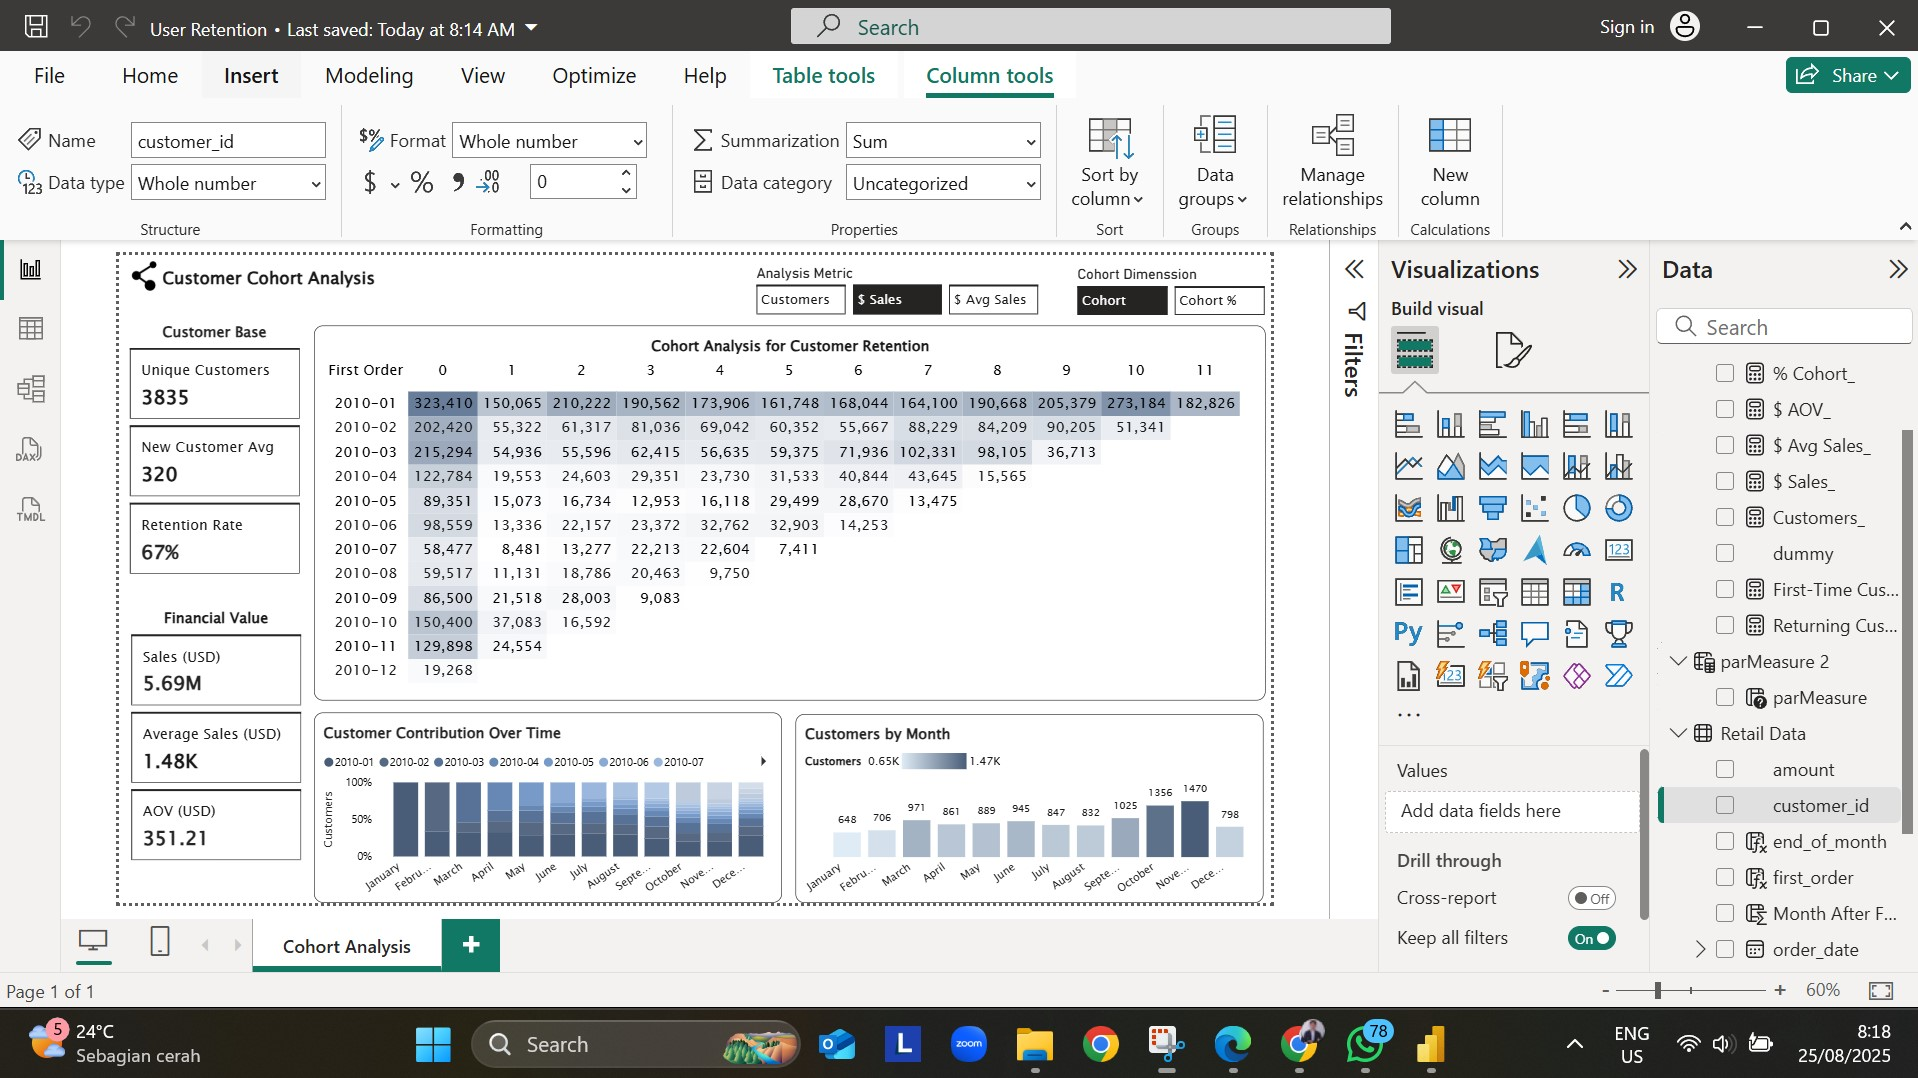

This screenshot's page, from the dashboard's own definition file:
{"tool":"powerbi","page":{"name":"Cohort Analysis","canvas":[1280,720],"ordinal":0},"visuals":[{"type":"pivotTable","title":"Cohort Analysis for Customer Retention","fields":{"Values":["Measure2.$ Sales_"],"Rows":["Retail Data.first_order"],"Columns":["Retail Data.Month After First Order"]},"box":[216.4,79.1,1057.3,416.4],"z":0},{"type":"shape","box":[48.9,1.8,488.6,47.1],"z":1000},{"type":"image","box":[4.7,2.4,45.8,43.2],"z":2000},{"type":"clusteredColumnChart","title":"Customers by Month","fields":{"Category":["Retail Data.order_date.Variation.Date Hierarchy.Month"],"Y":["Measure2.# Customers"]},"box":[752,510,520,210],"z":3000},{"type":"hundredPercentStackedColumnChart","title":"Customer Contribution Over Time","fields":{"Category":["Retail Data.order_date.Variation.Date Hierarchy.Month"],"Y":["Measure2.# Customers"],"Series":["Retail Data.first_order"]},"box":[216,509,520,211],"z":4000},{"type":"advancedSlicerVisual","title":"Analysis Metric","fields":{"Values":["parMeasure 2.parMeasure"]},"box":[698.8,5.8,330,71.2],"z":5000},{"type":"advancedSlicerVisual","title":"Cohort Dimenssion","fields":{"Values":["cgCohort_.Calculation group column"]},"box":[1055,6.4,223,70],"z":6000},{"type":"cardVisual","title":"Customer Base","fields":{"Data":["Measure2.# Customers","Measure2.First-Time Customers Annual Avg_","Measure2.Returning Customer Rate_"]},"box":[6.5,72.9,199.2,286.6],"z":7000},{"type":"cardVisual","title":"Financial Value ","fields":{"Data":["Measure2.$ Sales_","Measure2.$ Avg Sales_","Measure2.$ AOV_"]},"box":[8.1,391.9,199.2,286.6],"z":8000}]}

Visuals, with their boxes in screenshot pixels (x1, y1, x2, y2):
"Cohort Analysis for Customer Retention" pivotTable: 425/52/1917/667
shape: 177/0/899/7
image: 112/0/180/2
"Customers by Month" clusteredColumnChart: 1216/689/1917/999
"Customer Contribution Over Time" hundredPercentStackedColumnChart: 424/687/1192/999
"Analysis Metric" advancedSlicerVisual: 1138/0/1625/49
"Cohort Dimenssion" advancedSlicerVisual: 1664/0/1917/48
"Customer Base" cardVisual: 114/43/409/466
"Financial Value " cardVisual: 117/514/411/938
